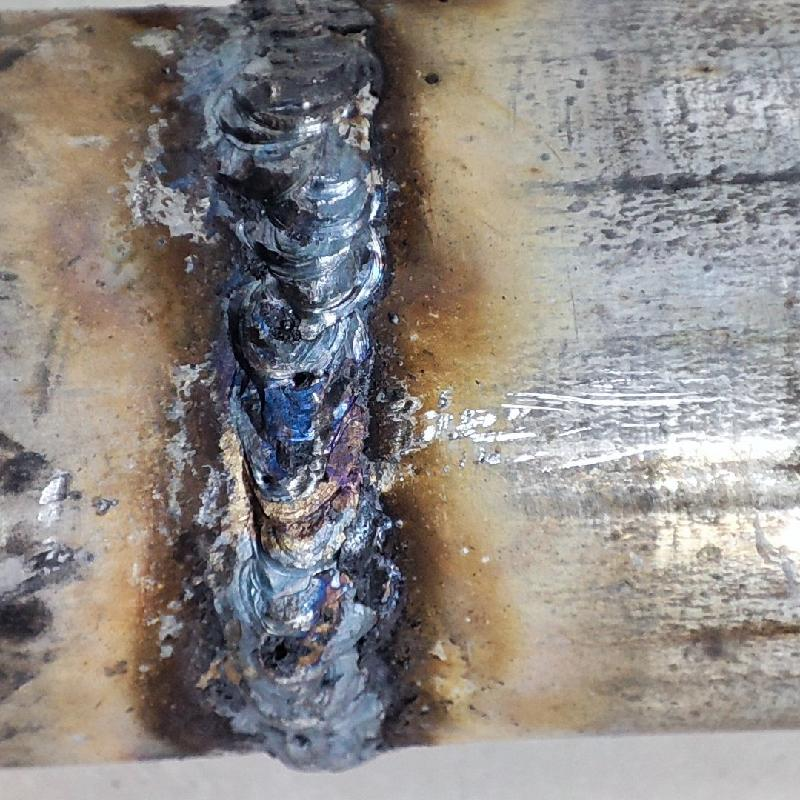Surface_pores: (279, 360, 322, 396), (260, 638, 303, 672)
good: (193, 3, 410, 778)
